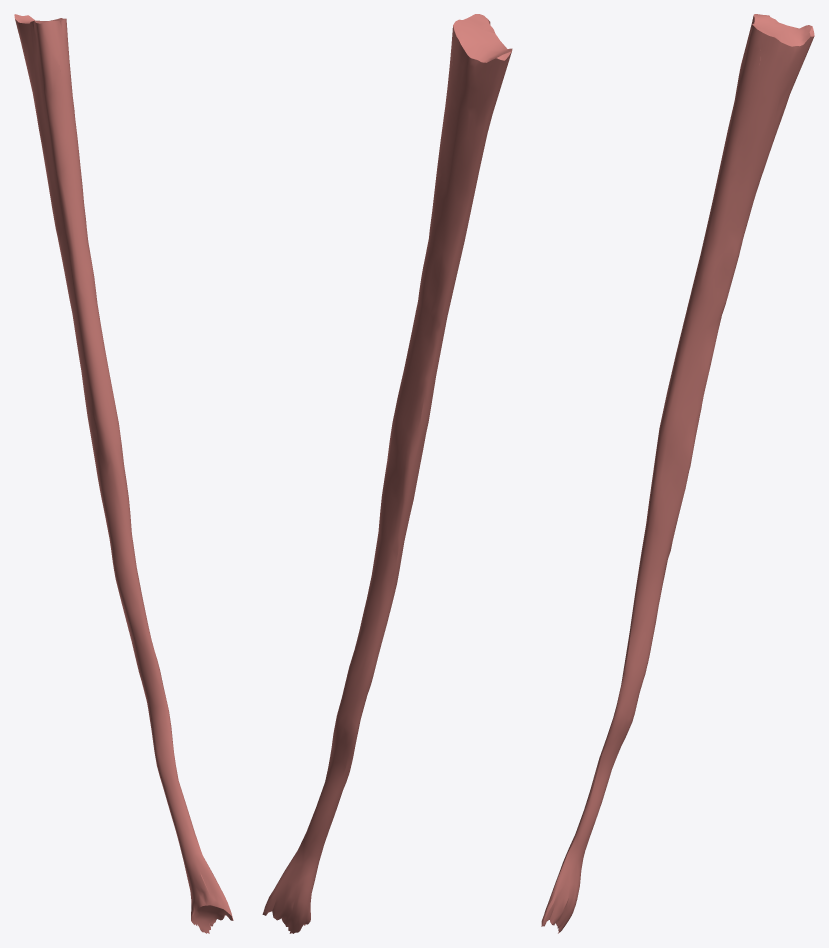
File: fma40706-f_mm1979m.glb
3 views of the same model, side by side, from view 1: azimuth 30°, elevation 25°; view 2: azimuth 210°, elevation 25°; view 3: azimuth 270°, elevation 25° (orthographic). The views are drawn at different scales.
Parts seen in each view (by area): view 1: FMA40706-F_MM1979M; view 2: FMA40706-F_MM1979M; view 3: FMA40706-F_MM1979M.
Boxes of the visible parts, x1,y1,x2,y2 form: FMA40706-F_MM1979M: [14, 14, 233, 933]; FMA40706-F_MM1979M: [262, 14, 512, 933]; FMA40706-F_MM1979M: [541, 14, 814, 933].
Bounding box in the file's own units: 0.0154 × 0.1395 × 0.039.
